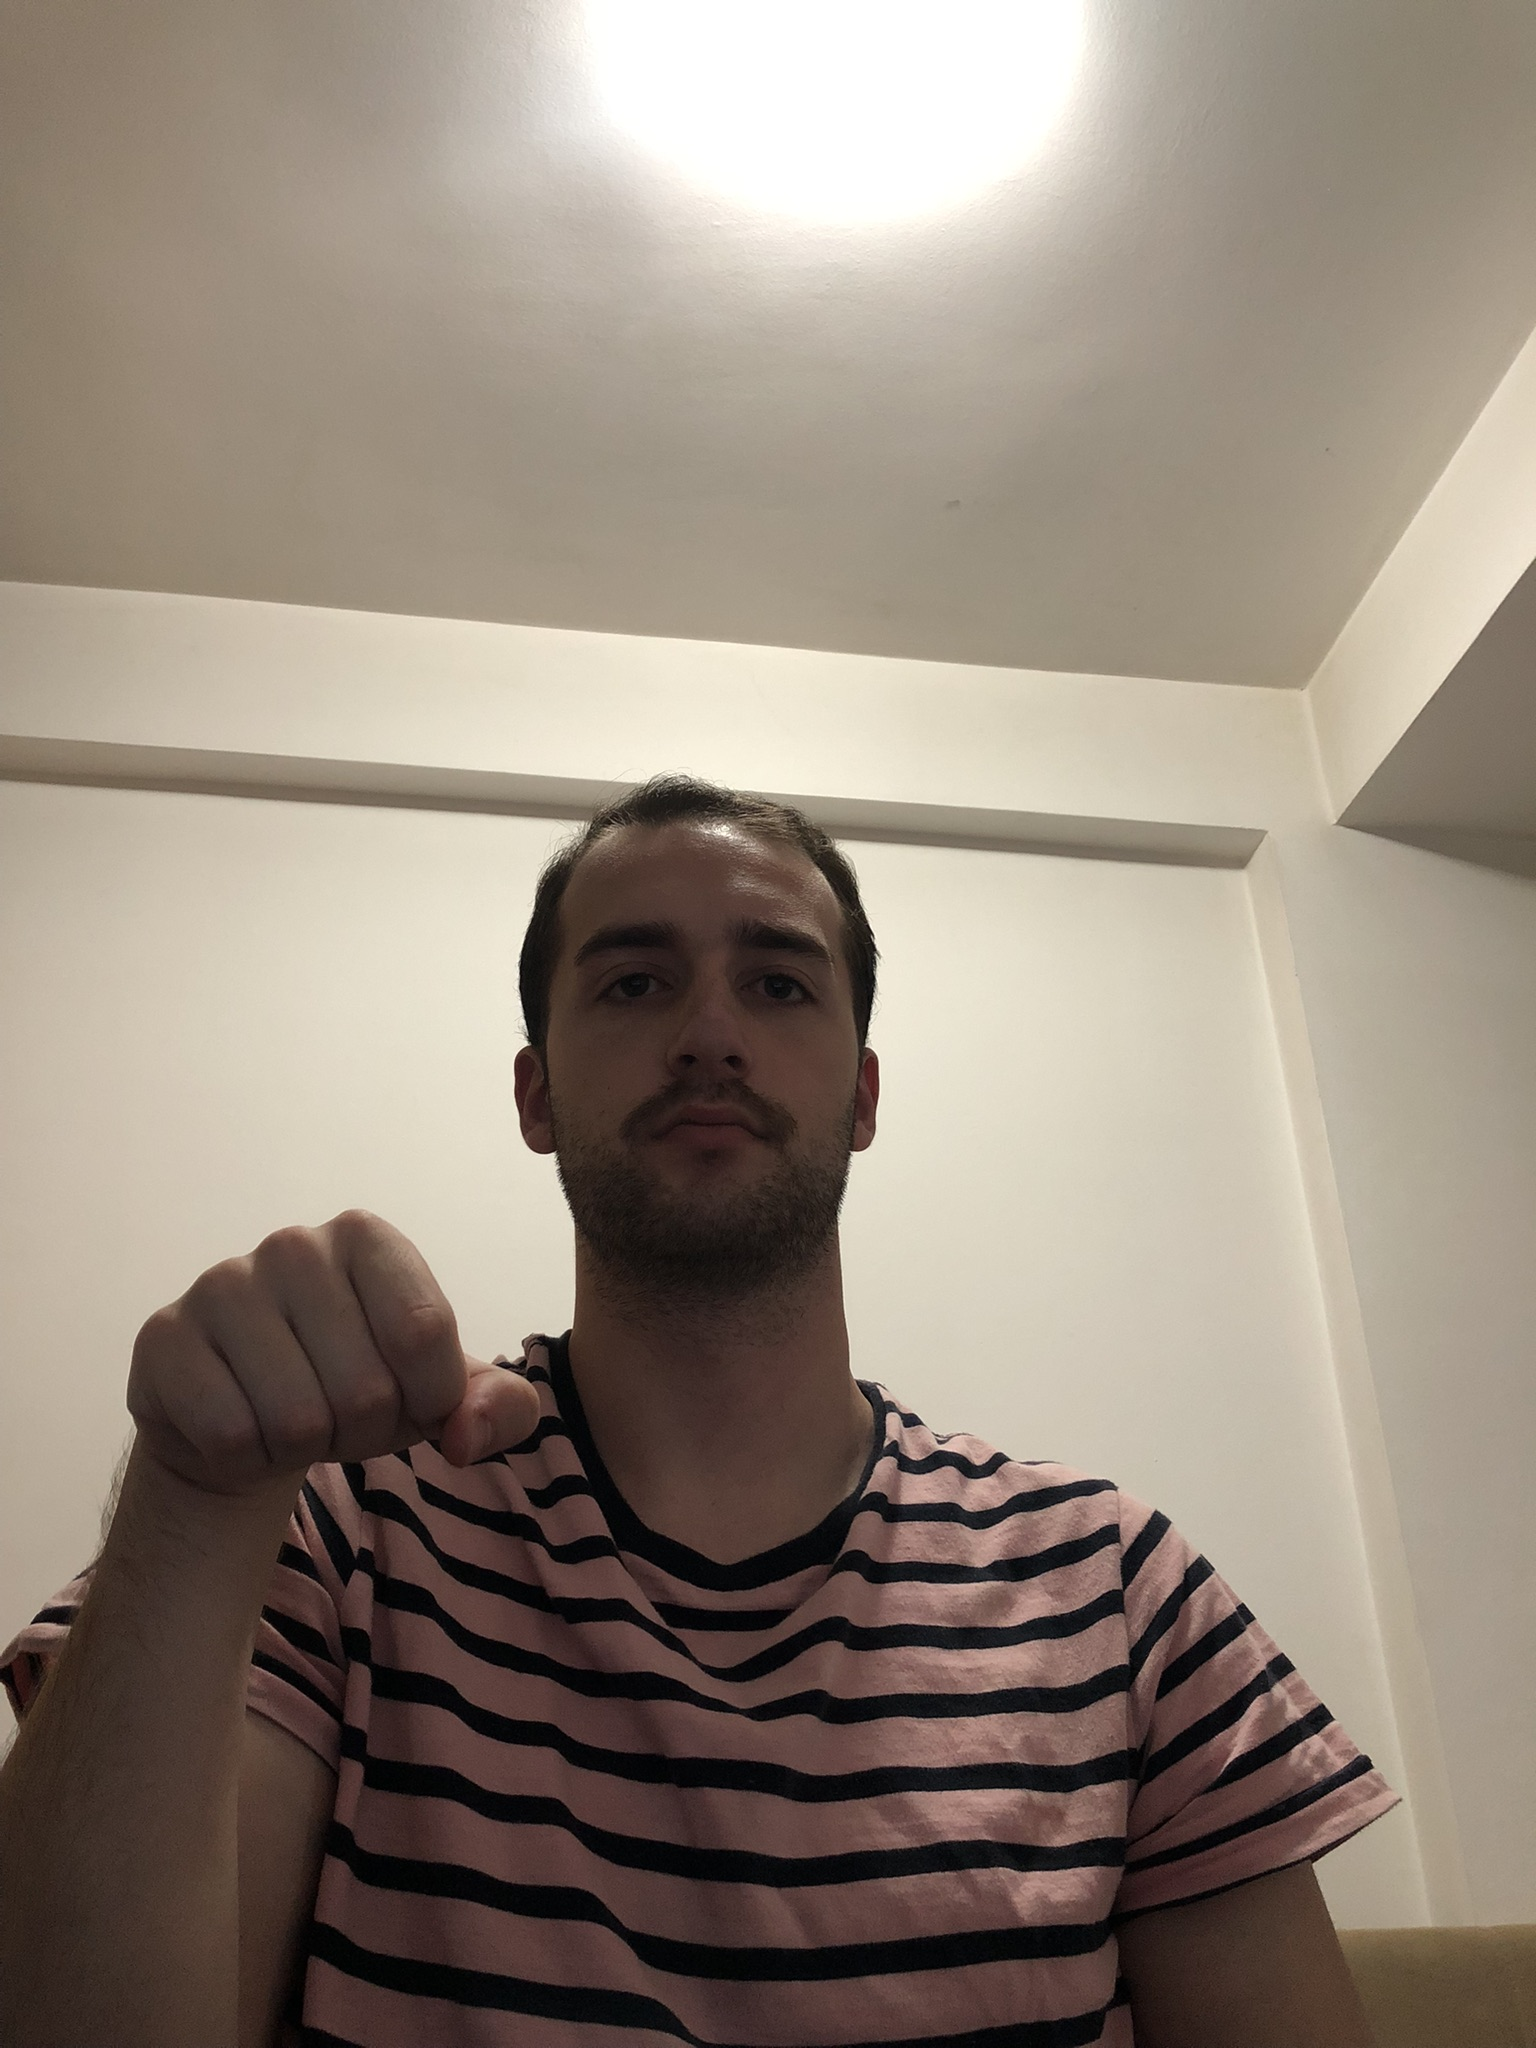Yes: (123, 1205, 549, 1526)
